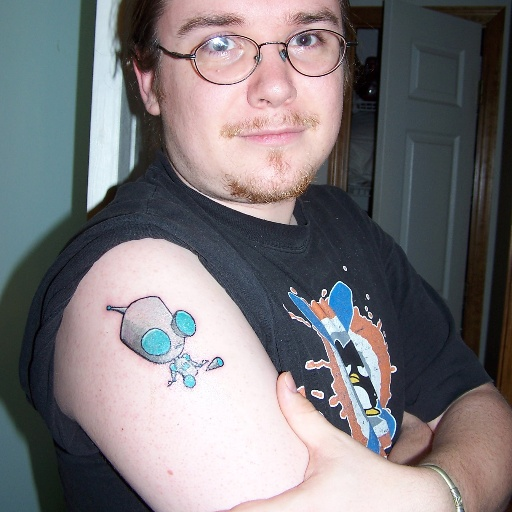hand: (216, 370, 433, 511), (388, 409, 434, 465)
